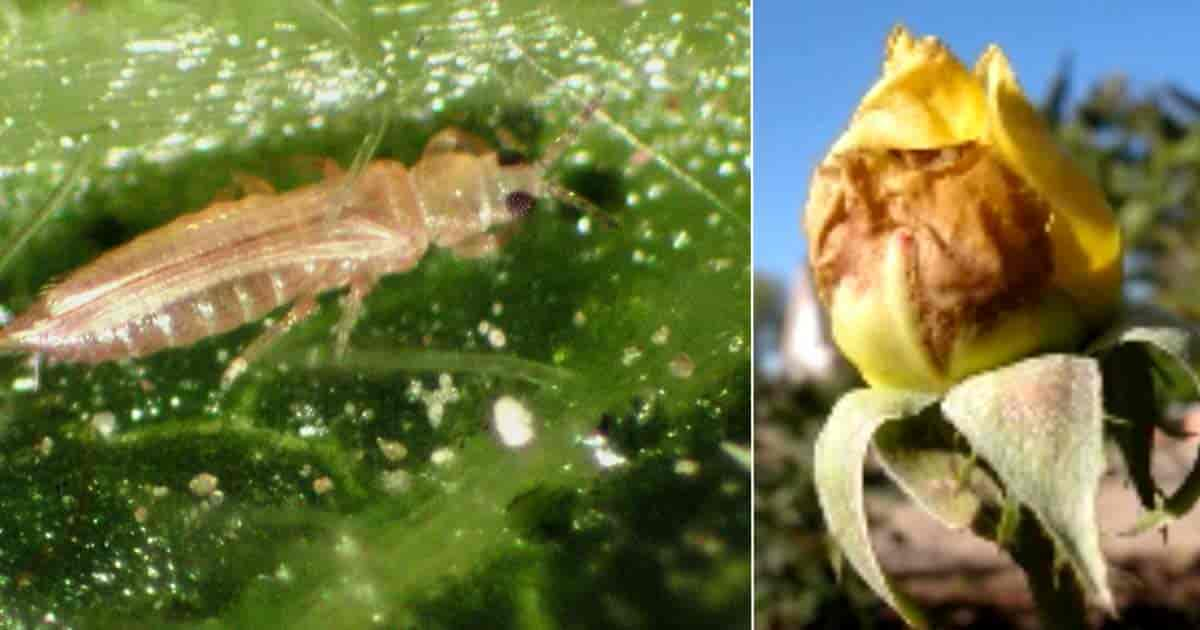Thrips: (1, 79, 630, 425)
